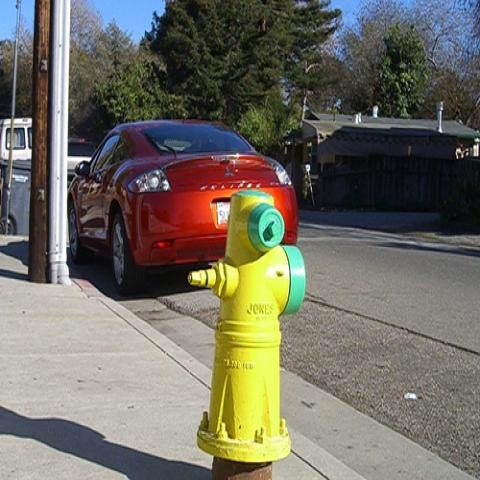car: (64, 117, 299, 291)
truck: (0, 117, 96, 175)
